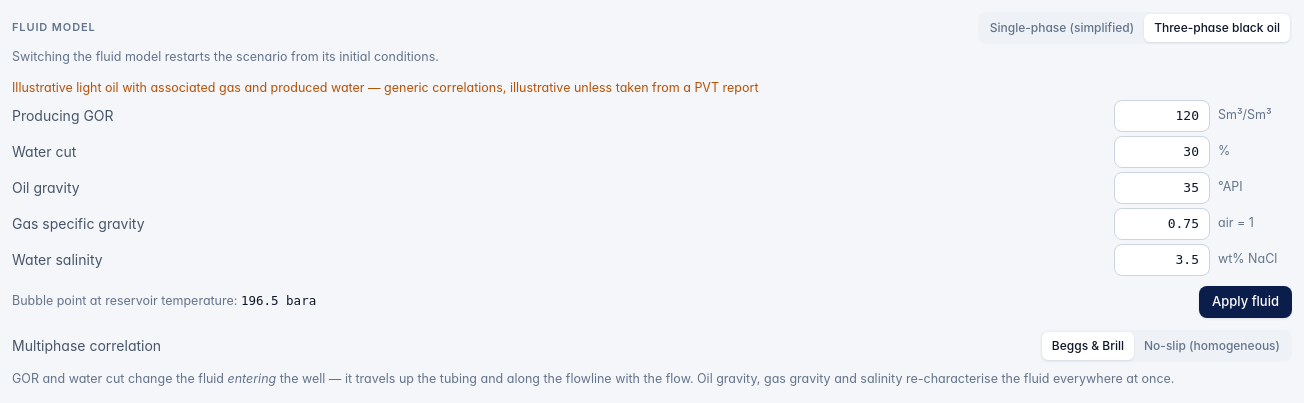
Test: BlackOilPanel › sends validated black-oil inputs (water cut in % -> fraction)
Later steps or results of the test are not shown.
Step 1. Replace the text in the field labelled "Water cut" with "45" → (1162, 152), box [1114,136,1210,168]
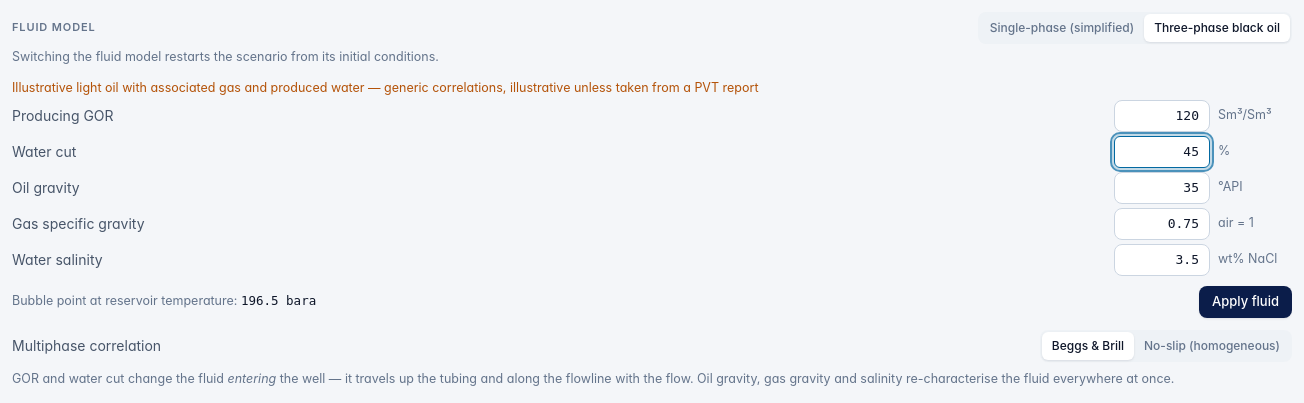
Step 2. Click the button "Apply fluid" → (1246, 302), box [1199,286,1292,318]
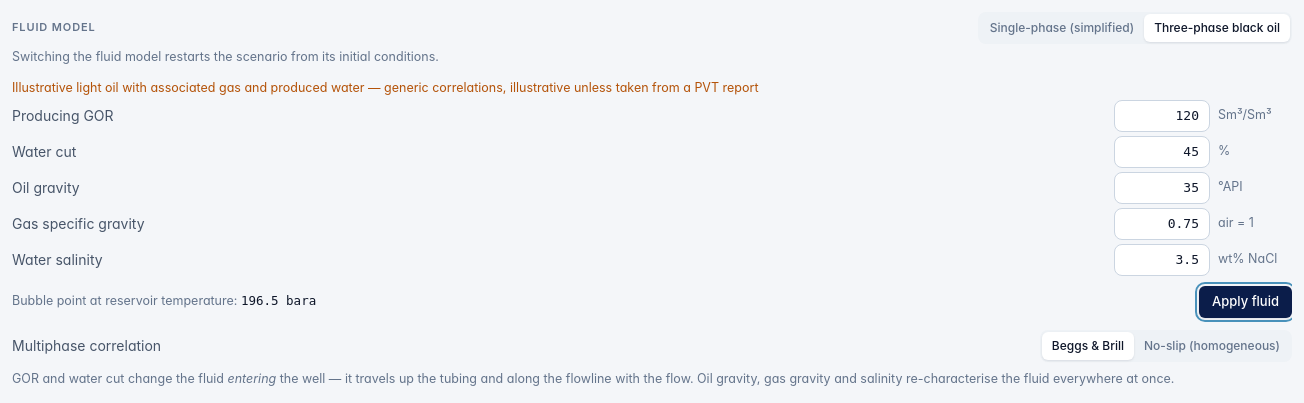
Step 3. Replace the text in the field labelled "Water cut" with "150" → (1162, 152), box [1114,136,1210,168]
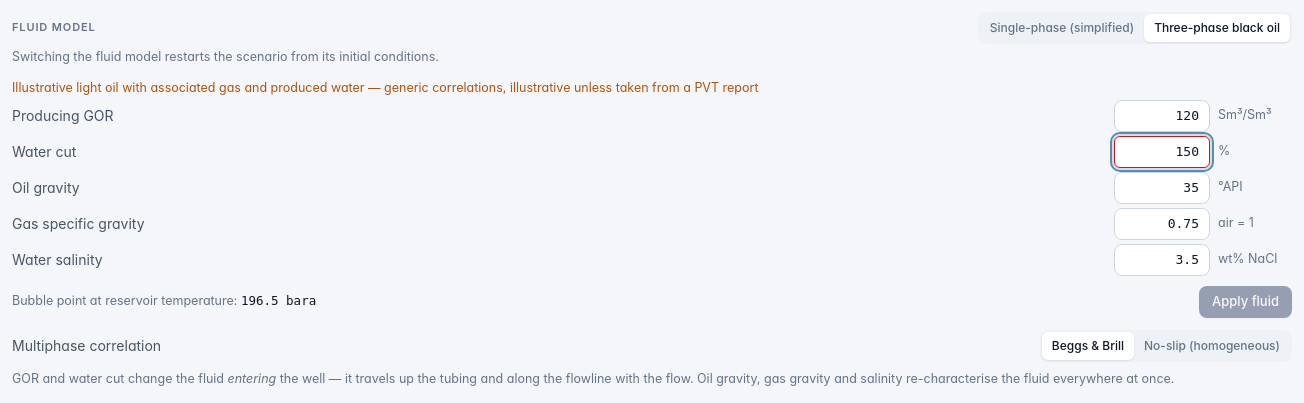
Check: the button "Apply fluid" is disabled, box [1199,286,1292,318]
